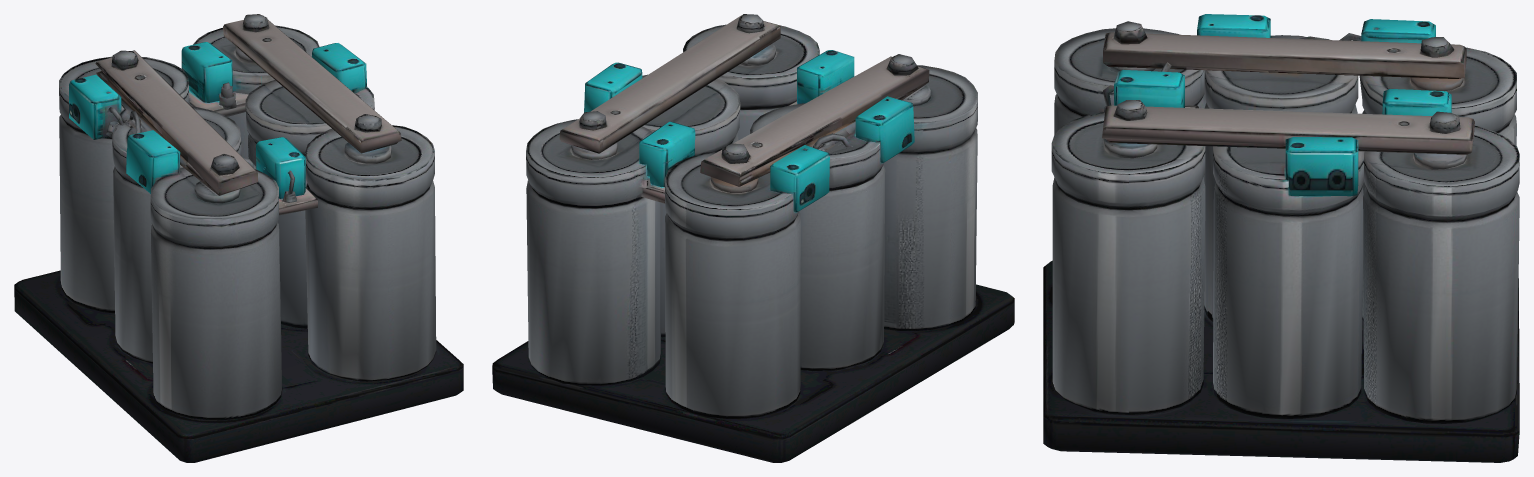
Rendered from pulse_capacitor_bank.glb.
3 renders of one model, left to right at view 1: azimuth 30°, elevation 25°; view 2: azimuth 150°, elevation 25°; view 3: azimuth 270°, elevation 25°, orthographic. The views are drawn at different scales.
Parts seen in each view (by area): view 1: pulse capacitor bank; view 2: pulse capacitor bank; view 3: pulse capacitor bank.
Boxes of the visible parts, <box> form: pulse capacitor bank: <box>14,14,463,462</box>; pulse capacitor bank: <box>492,14,1014,462</box>; pulse capacitor bank: <box>1043,14,1519,462</box>.
Bounding box in the file's own units: 0.1167 × 0.0957 × 0.1311.
1 material, 1 textured.
